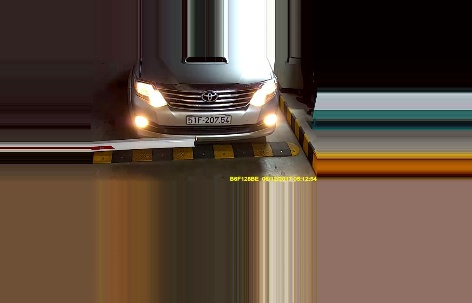plate: (184, 113, 234, 127)
